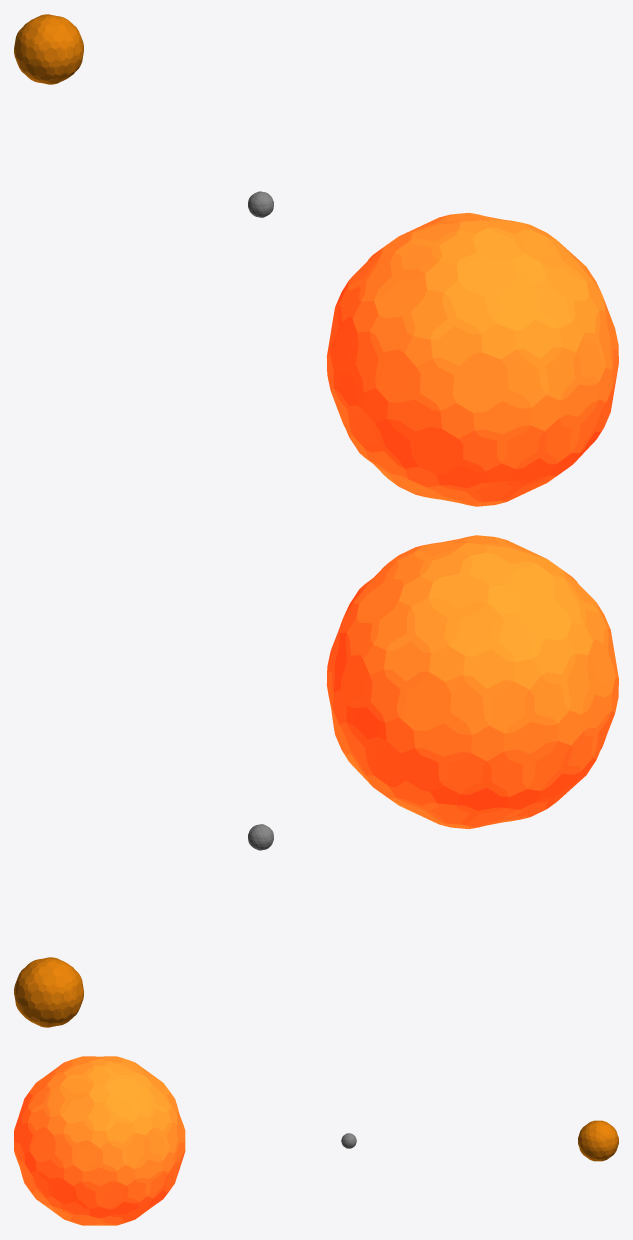
3 renders of one model, top to bottom at view 1: azimuth 30°, elevation 25°; view 2: azimuth 150°, elevation 25°; view 3: azimuth 270°, elevation 25°, orthographic. The views are drawn at different scales.
Parts seen in each view (by area): view 1: Sun, Venus; view 2: Sun, Venus; view 3: Sun, Venus.
Boxes of the visible parts, x1=… form: Sun: x1=326, y1=212, x2=618, y2=506; Venus: x1=14, y1=14, x2=83, y2=84; Sun: x1=326, y1=535, x2=618, y2=829; Venus: x1=14, y1=957, x2=83, y2=1027; Sun: x1=14, y1=1056, x2=185, y2=1225; Venus: x1=578, y1=1120, x2=618, y2=1161.
Bounding box in the file's own units: 6.79 × 6.93 × 24.26.
